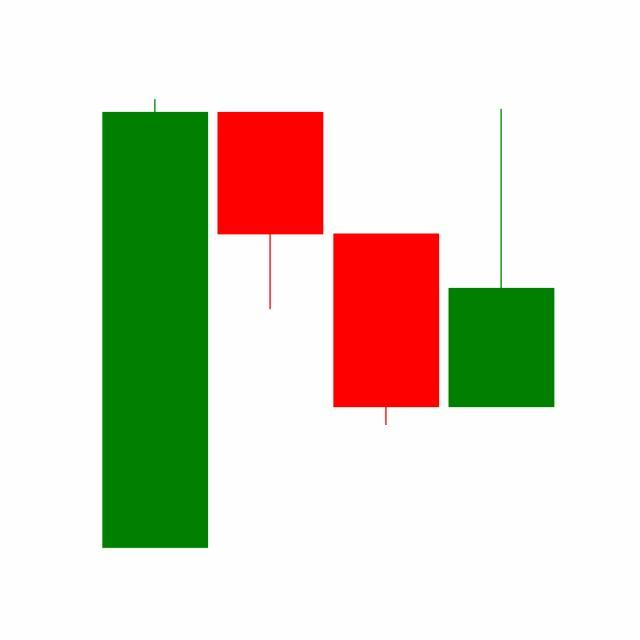Marubozu: (329, 231, 445, 428)
